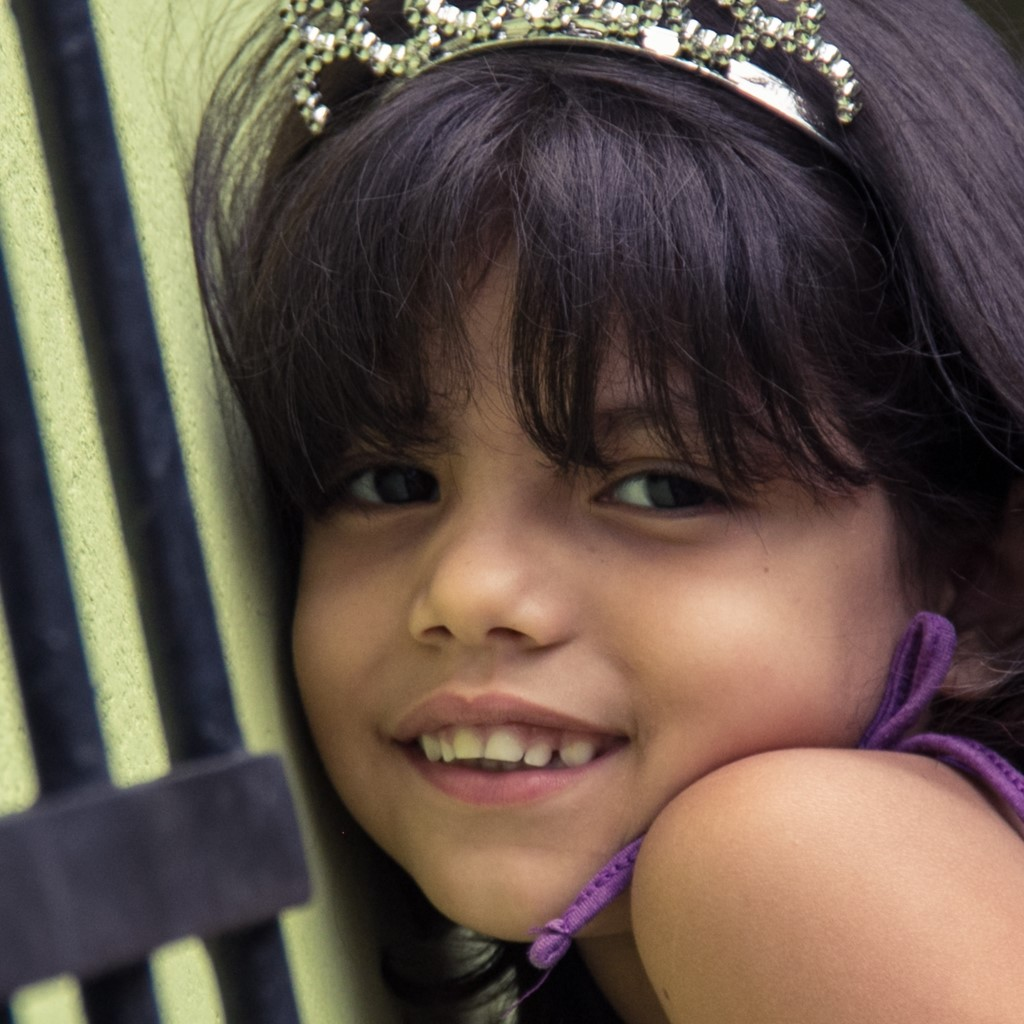sin_mascara: (283, 67, 933, 961)
